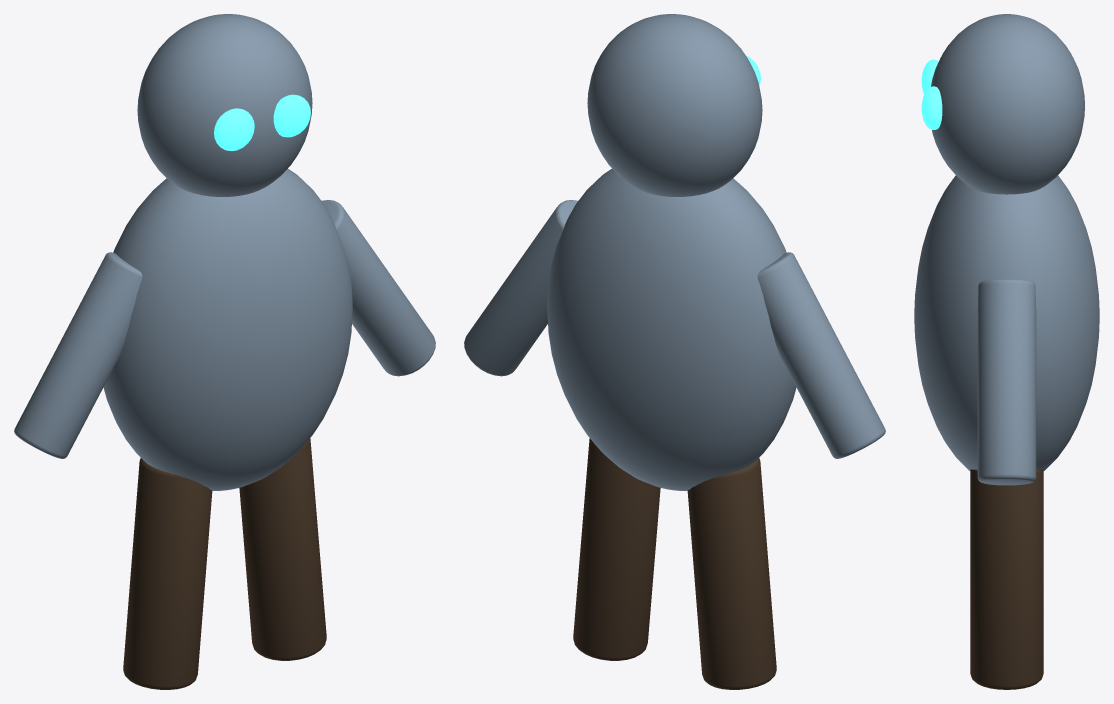
The model's file is humanoid.glb.
3 views of the same model, side by side, from view 1: azimuth 30°, elevation 25°; view 2: azimuth 150°, elevation 25°; view 3: azimuth 270°, elevation 25° (orthographic). The views are drawn at different scales.
Visible parts, largest first — view 1: BODY_PRIMARY, HEAD_PRIMARY, LEG_L_SECONDARY, LEG_R_SECONDARY, ARM_L_PRIMARY, ARM_R_PRIMARY, EYE_EMISSIVE, EYE_EMISSIVE.001; view 2: BODY_PRIMARY, HEAD_PRIMARY, LEG_L_SECONDARY, LEG_R_SECONDARY, ARM_L_PRIMARY, ARM_R_PRIMARY; view 3: BODY_PRIMARY, HEAD_PRIMARY, LEG_R_SECONDARY, ARM_R_PRIMARY, EYE_EMISSIVE.001, EYE_EMISSIVE.
Part boxes in pixels (box(x1,y1,x2,y2)): BODY_PRIMARY: box(103, 169, 352, 490); HEAD_PRIMARY: box(137, 14, 312, 196); LEG_L_SECONDARY: box(123, 458, 212, 689); LEG_R_SECONDARY: box(239, 438, 326, 660); ARM_L_PRIMARY: box(14, 252, 142, 458); ARM_R_PRIMARY: box(322, 200, 435, 376); EYE_EMISSIVE: box(214, 108, 254, 150); EYE_EMISSIVE.001: box(273, 94, 310, 137); BODY_PRIMARY: box(547, 169, 796, 490); HEAD_PRIMARY: box(587, 14, 762, 196); LEG_L_SECONDARY: box(687, 458, 776, 689); LEG_R_SECONDARY: box(573, 438, 660, 660); ARM_L_PRIMARY: box(757, 252, 885, 458); ARM_R_PRIMARY: box(464, 200, 577, 376); BODY_PRIMARY: box(914, 175, 1099, 470); HEAD_PRIMARY: box(931, 14, 1084, 194); LEG_R_SECONDARY: box(970, 469, 1043, 689); ARM_R_PRIMARY: box(977, 279, 1036, 485); EYE_EMISSIVE.001: box(921, 86, 942, 129); EYE_EMISSIVE: box(921, 59, 938, 94).
Size of the model in its own units: 1.91 by 2.84 by 0.76.
